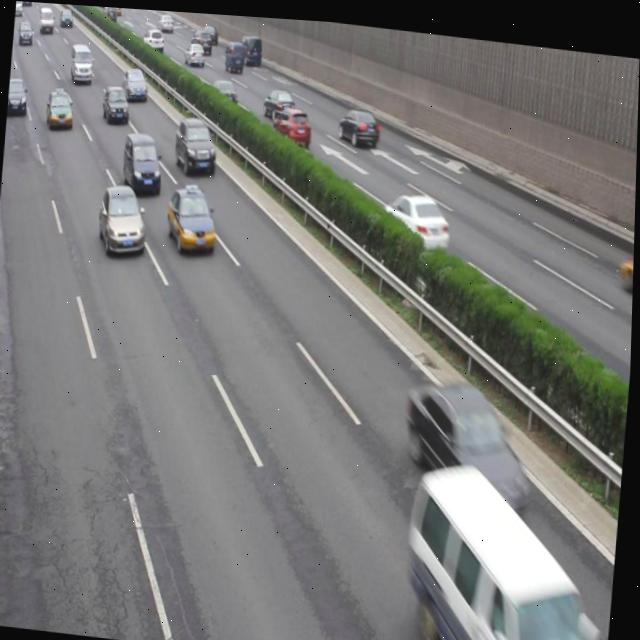car: (403, 370, 536, 499), (382, 184, 453, 247), (165, 177, 221, 253), (98, 182, 150, 257), (174, 114, 220, 174), (122, 131, 165, 190), (337, 104, 382, 145), (272, 100, 310, 142), (46, 90, 76, 131), (262, 83, 295, 118), (103, 85, 131, 123), (208, 76, 240, 105), (122, 67, 149, 101), (9, 78, 31, 115), (223, 38, 245, 71), (143, 27, 167, 52), (191, 27, 213, 54), (184, 39, 205, 67), (201, 24, 218, 41)
truck: (402, 453, 613, 640), (70, 44, 95, 86), (238, 31, 263, 65)
